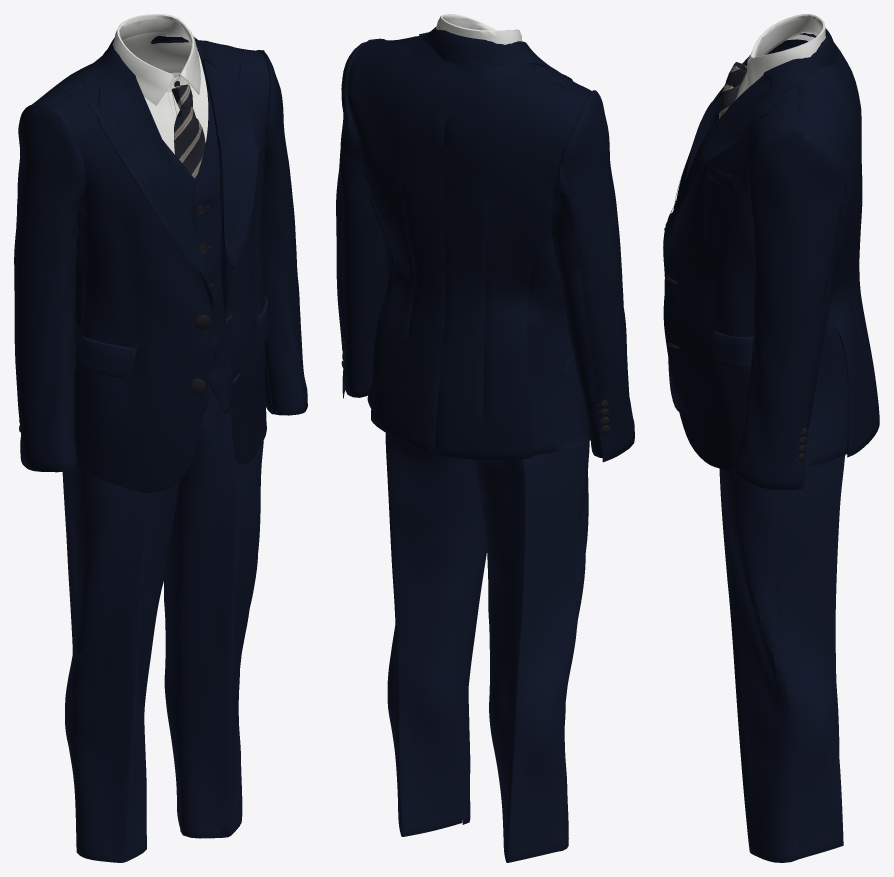
File: MW_Tailleur_suit_v4_blender_collarfix4_peak_step2c_onepiece_v2.glb
The picture shows the model from 3 angles, left to right: view 1: azimuth 30°, elevation 25°; view 2: azimuth 150°, elevation 25°; view 3: azimuth 270°, elevation 25°; orthographic projection. The views are drawn at different scales.
Parts seen in each view (by area): view 1: Jacket, Trousers, Shirt, Waistcoat, Tie, Trim; view 2: Jacket, Trousers, Shirt, Waistcoat; view 3: Jacket, Trousers, Shirt, Tie, Waistcoat.
Boxes of the visible parts, <box> form: Jacket: <box>14,36,307,492</box>; Trousers: <box>62,383,263,862</box>; Shirt: <box>112,14,208,154</box>; Waistcoat: <box>75,41,231,413</box>; Tie: <box>172,84,205,179</box>; Trim: <box>19,81,210,432</box>; Jacket: <box>336,26,634,462</box>; Trousers: <box>385,339,589,862</box>; Shirt: <box>436,14,522,44</box>; Waistcoat: <box>414,39,523,81</box>; Jacket: <box>663,28,879,489</box>; Trousers: <box>719,455,845,862</box>; Shirt: <box>735,14,825,100</box>; Tie: <box>719,62,746,118</box>; Waistcoat: <box>714,64,836,124</box>.
Size of the model in its own units: 0.5389 by 1.5 by 0.3678.
8 materials, 4 textured.
